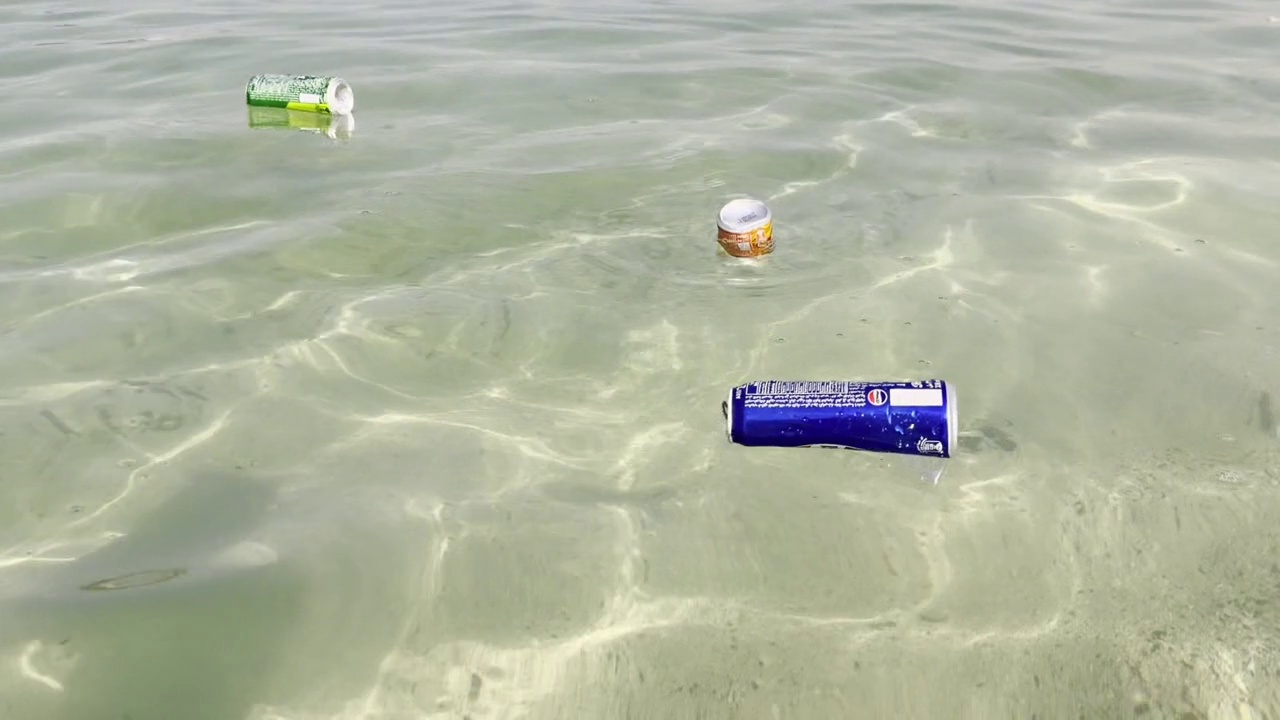debris: (716, 370, 961, 468), (242, 70, 359, 120), (713, 188, 782, 270)
